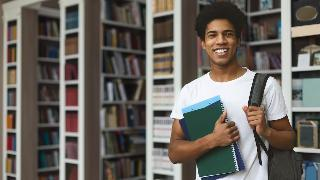person - v3 P: (169, 2, 295, 179)
